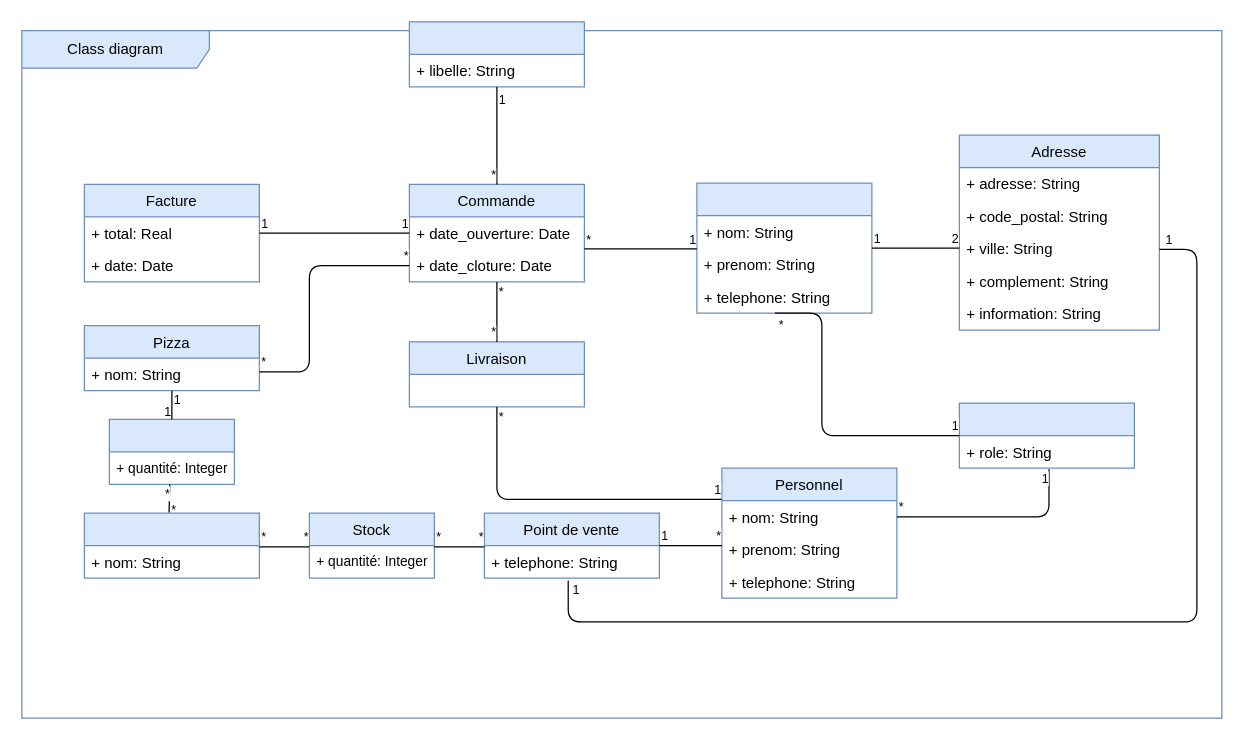
This 1244x740 diagram has some shape labels left out. Here are the shapes that lost their labels. From the top down, the box of each, then its label:
(408, 21, 584, 87): Statut
(696, 182, 872, 313): Client
(108, 418, 234, 484): Recette
(958, 402, 1134, 468): Rôle
(83, 512, 259, 578): Ingrédient
